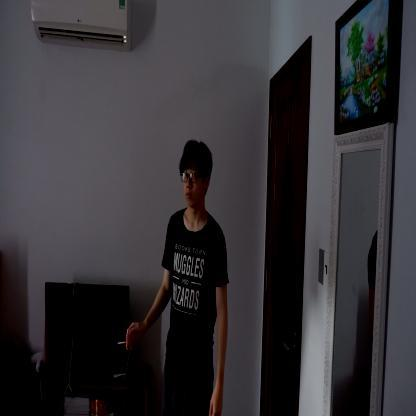cigarette: (118, 340, 127, 346)
person: (126, 138, 231, 415)
